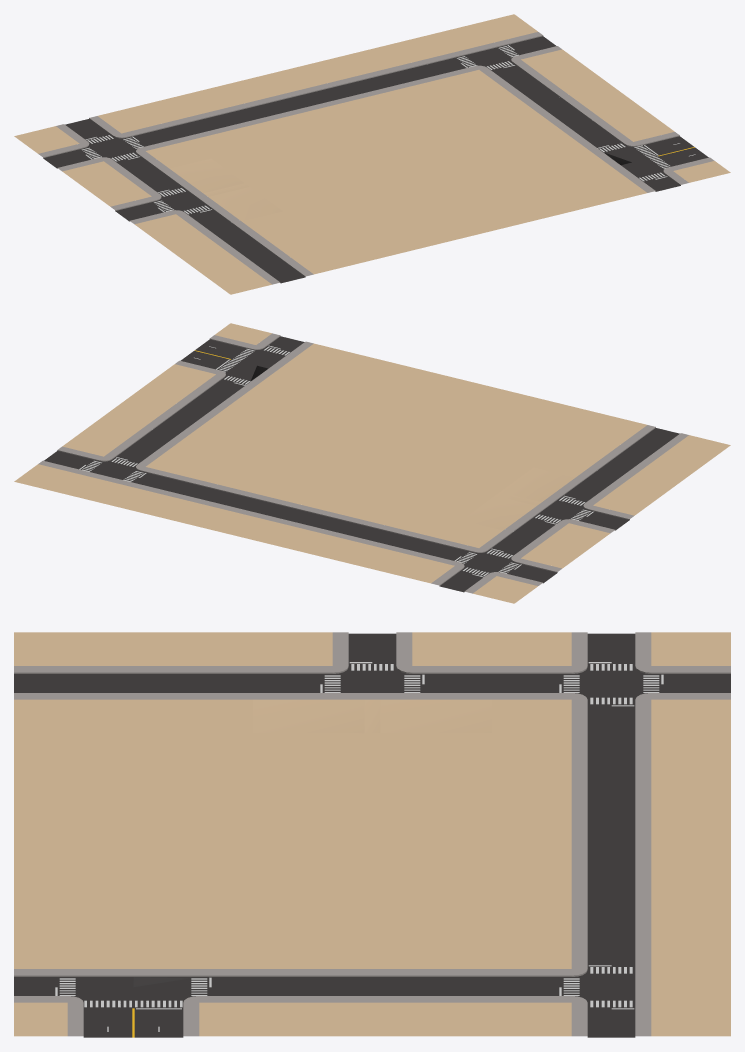
The model's file is road-zone-company.glb.
The picture shows the model from 3 angles, top to bottom: view 1: azimuth 30°, elevation 25°; view 2: azimuth 150°, elevation 25°; view 3: azimuth 270°, elevation 25°; orthographic projection. The views are drawn at different scales.
Parts seen in each view (by area): view 1: tile-road-intersection-t-nb.002, tile-road-intersection-t-nb.003, tile-road-straight-nb.004, tile-plain-nb.074, tile-road-straight-nb.007, tile-road-straight-nb.013, tile-plain-nb.073, tile-plain-nb.075, tile-plain-nb.076, tile-road-intersection-nb.003, tile-road-straight-nb.006, tile-mainroad-road-intersection-t-nb.002; view 2: tile-road-intersection-t-nb.003, tile-road-straight-nb.004, tile-road-straight-nb.006, tile-road-intersection-nb.003, tile-road-straight-nb.013, tile-plain-nb.073, tile-plain-nb.074, tile-plain-nb.075, tile-plain-nb.076, tile-road-straight-nb.007, tile-road-intersection-t-nb.002, tile-mainroad-road-intersection-t-nb.002; view 3: tile-mainroad-road-intersection-t-nb.002, tile-road-intersection-t-nb.002, tile-road-straight-nb.006, tile-road-straight-nb.013, tile-road-intersection-nb.003, tile-road-straight-nb.004, tile-road-straight-nb.007, tile-plain-nb.073, tile-plain-nb.074, tile-plain-nb.075, tile-plain-nb.076, tile-road-intersection-t-nb.003.
Part boxes in pixels (bbox=[...]): tile-road-intersection-t-nb.002: bbox=[389, 14, 585, 97]; tile-road-intersection-t-nb.003: bbox=[86, 158, 282, 241]; tile-road-straight-nb.004: bbox=[462, 67, 658, 150]; tile-plain-nb.074: bbox=[211, 128, 407, 211]; tile-road-straight-nb.007: bbox=[159, 211, 355, 294]; tile-road-straight-nb.013: bbox=[264, 45, 460, 127]; tile-plain-nb.073: bbox=[284, 181, 480, 263]; tile-plain-nb.075: bbox=[409, 150, 605, 233]; tile-plain-nb.076: bbox=[337, 97, 533, 180]; tile-road-intersection-nb.003: bbox=[14, 106, 210, 188]; tile-road-straight-nb.006: bbox=[139, 75, 335, 158]; tile-mainroad-road-intersection-t-nb.002: bbox=[534, 120, 730, 202]; tile-road-intersection-t-nb.003: bbox=[462, 467, 658, 550]; tile-road-straight-nb.004: bbox=[86, 376, 282, 459]; tile-road-straight-nb.006: bbox=[264, 490, 460, 572]; tile-road-intersection-nb.003: bbox=[389, 520, 585, 603]; tile-road-straight-nb.013: bbox=[139, 459, 335, 542]; tile-plain-nb.073: bbox=[409, 384, 605, 467]; tile-plain-nb.074: bbox=[337, 437, 533, 520]; tile-plain-nb.075: bbox=[284, 354, 480, 436]; tile-plain-nb.076: bbox=[211, 406, 407, 489]; tile-road-straight-nb.007: bbox=[534, 415, 730, 497]; tile-road-intersection-t-nb.002: bbox=[14, 429, 210, 511]; tile-mainroad-road-intersection-t-nb.002: bbox=[159, 323, 355, 406]; tile-mainroad-road-intersection-t-nb.002: bbox=[14, 935, 252, 1037]; tile-road-intersection-t-nb.002: bbox=[492, 935, 730, 1037]; tile-road-straight-nb.006: bbox=[492, 733, 730, 835]; tile-road-straight-nb.013: bbox=[492, 834, 730, 936]; tile-road-intersection-nb.003: bbox=[492, 632, 730, 734]; tile-road-straight-nb.004: bbox=[253, 935, 491, 1036]; tile-road-straight-nb.007: bbox=[14, 632, 252, 733]; tile-plain-nb.073: bbox=[14, 733, 252, 834]; tile-plain-nb.074: bbox=[253, 733, 491, 834]; tile-plain-nb.075: bbox=[14, 834, 252, 935]; tile-plain-nb.076: bbox=[253, 834, 491, 935]; tile-road-intersection-t-nb.003: bbox=[253, 632, 491, 733].
Bounding box in the file's own units: 120 × 0.2 × 90.
